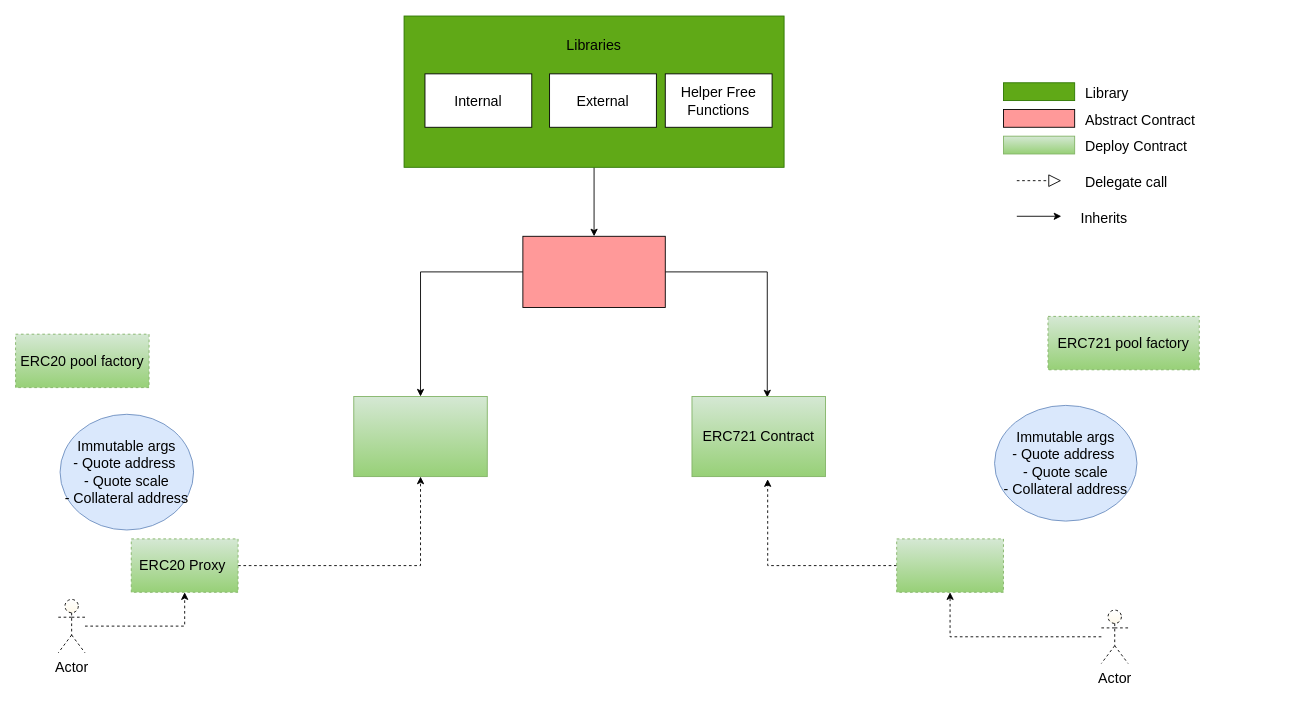
This 1313x701 diagram has some shape labels left out. The centre of each missing label's shape, as x and y in pixels:
ERC20 Contract: (x=420, y=436)
ERC721 Proxy: (x=949, y=565)
Pool contract: (x=593, y=271)
